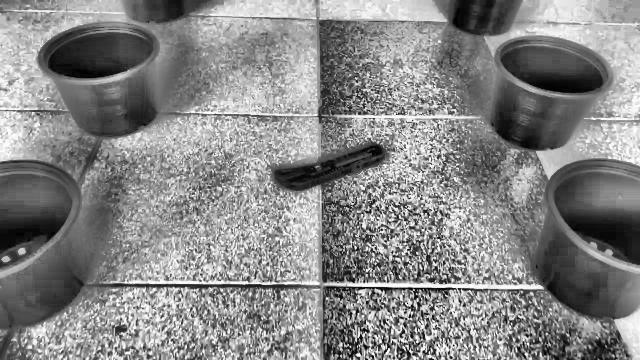pot: (534, 159, 640, 320), (0, 161, 88, 329), (36, 22, 160, 140), (488, 36, 614, 152)
